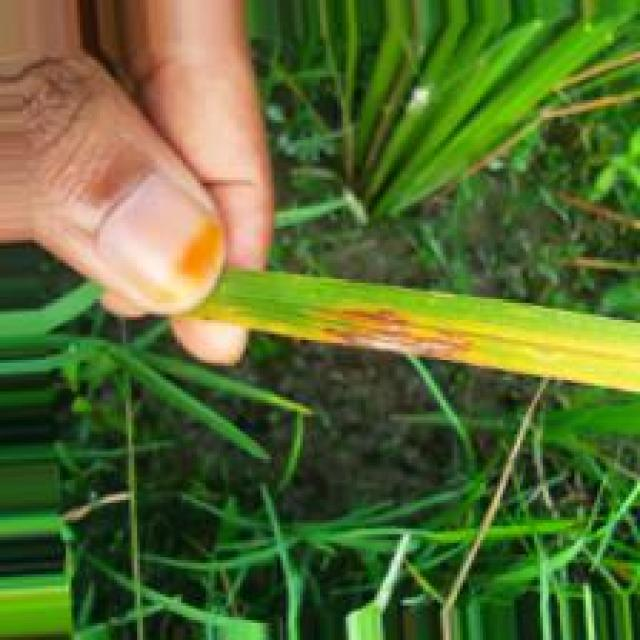Narrow_Brown_Leaf_Spot: (288, 297, 636, 393)
